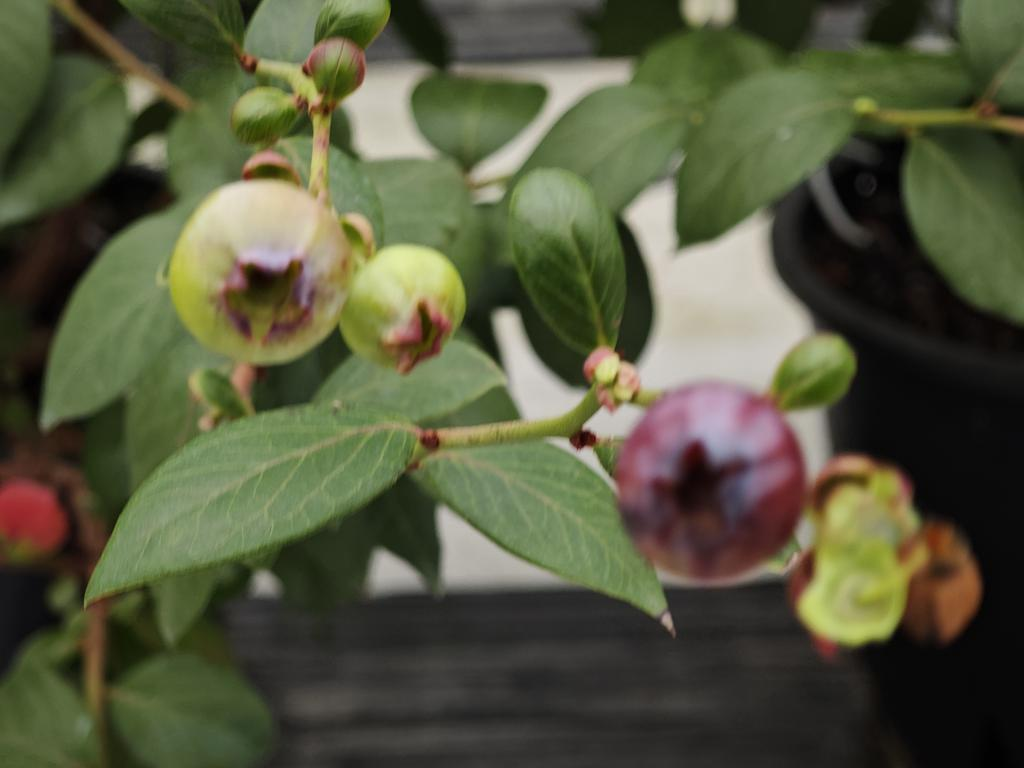Semi-RipeBlueBerry: (616, 379, 810, 582)
UnripeBlueBerry: (166, 177, 352, 364)
